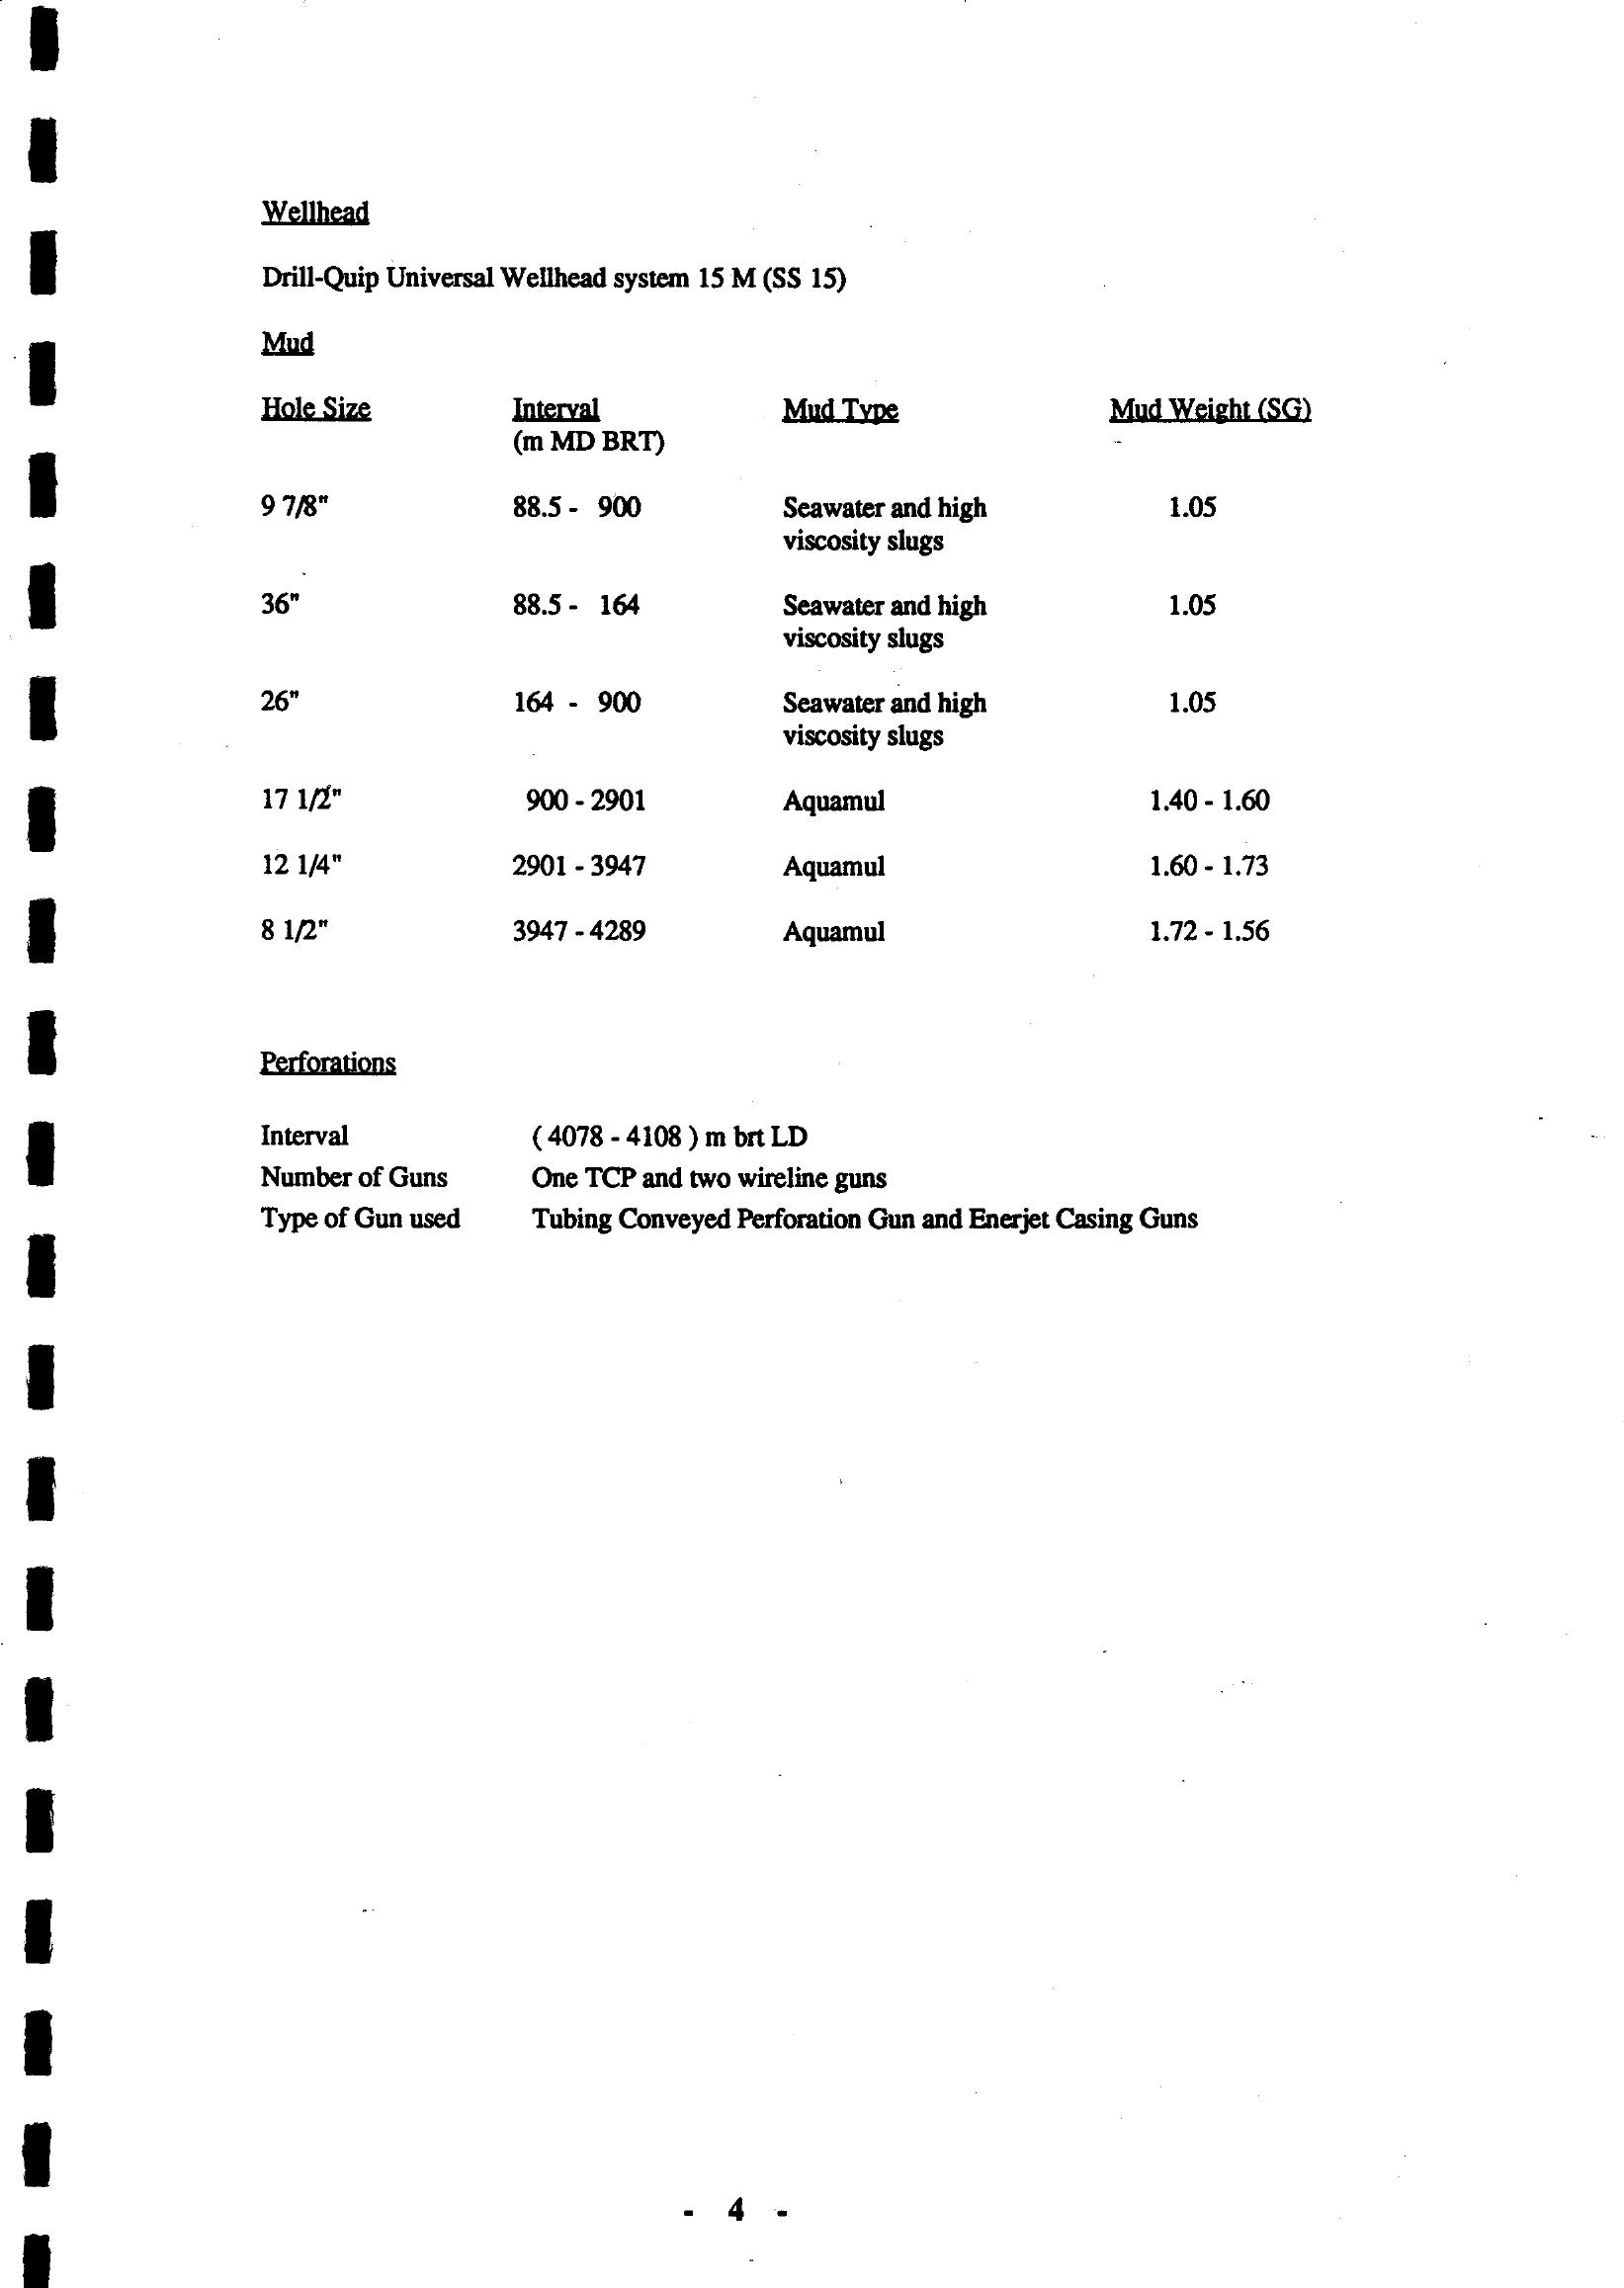table: (207, 322, 1369, 993)
text: (234, 1039, 1269, 1307), (213, 169, 884, 308)
